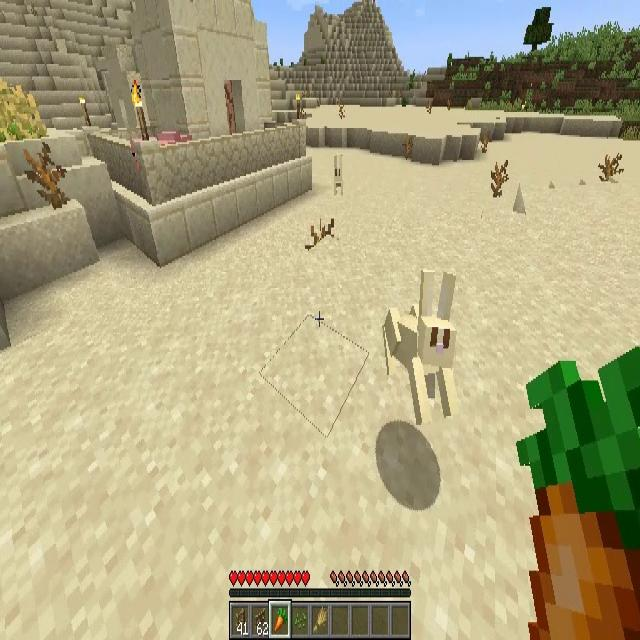rabbit: (380, 271, 458, 418), (332, 156, 345, 198)
